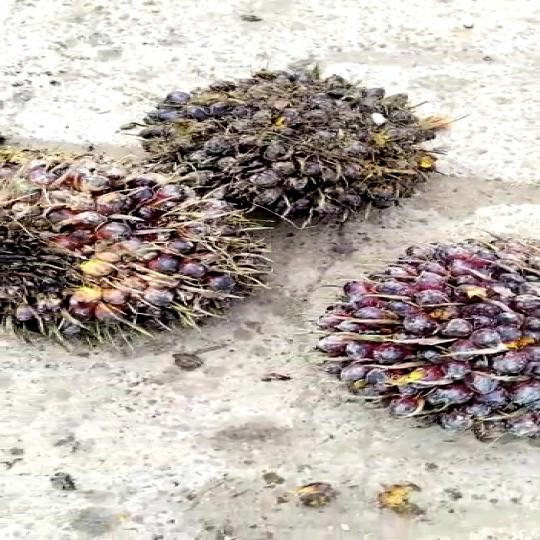kurang masak: (0, 139, 252, 363), (133, 60, 438, 228), (301, 244, 540, 434)
